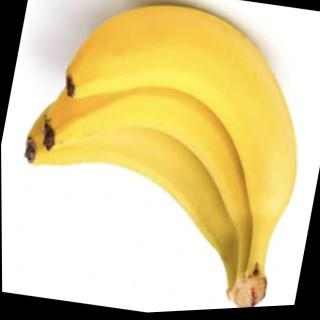banana: (40, 0, 320, 240), (29, 30, 291, 242), (10, 65, 268, 259)
